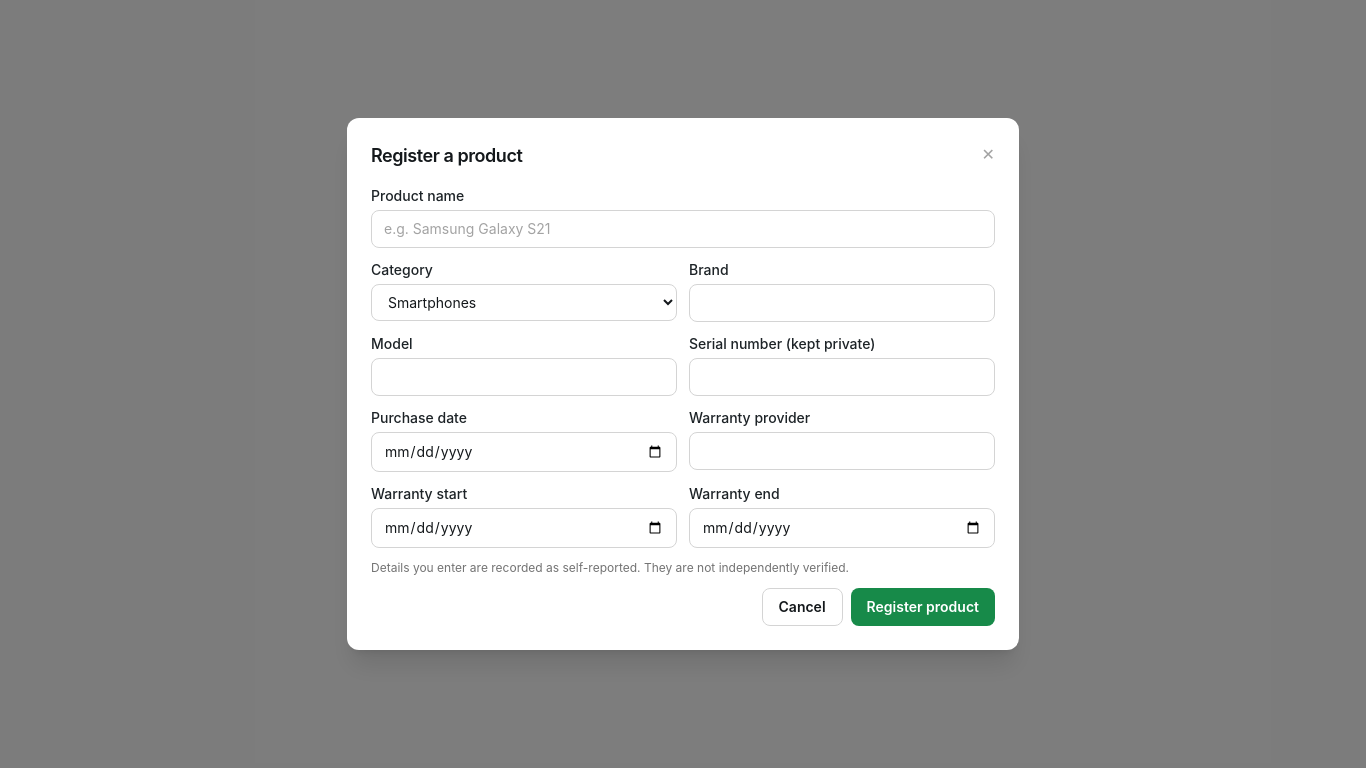
Test case: repair booking flow › product registration rejects a future purchase date and mismatched warranty dates
In the field labelled "Product name": [683, 229] box [371, 210, 995, 248], type "Phone"
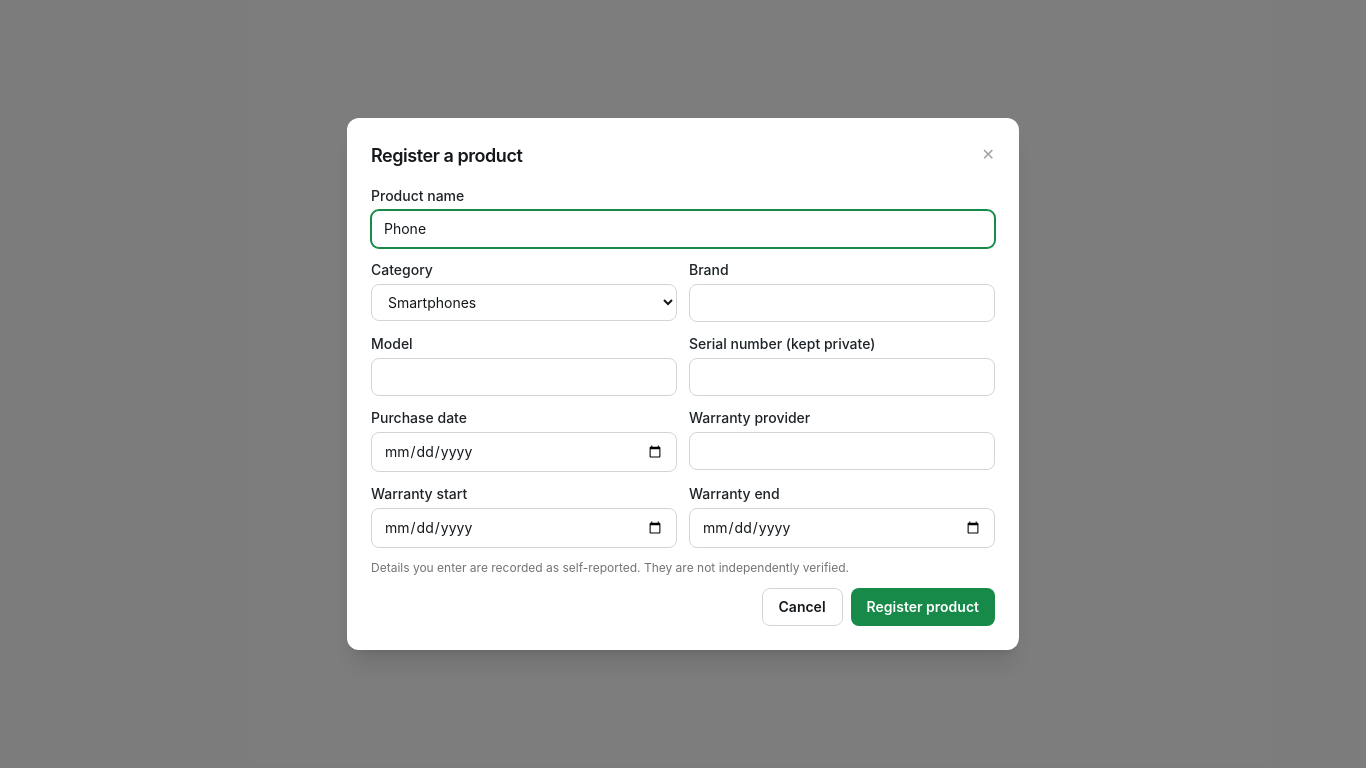
In the date field labelled "Warranty start": [524, 528] box [371, 508, 677, 548], type "2024-01-01"
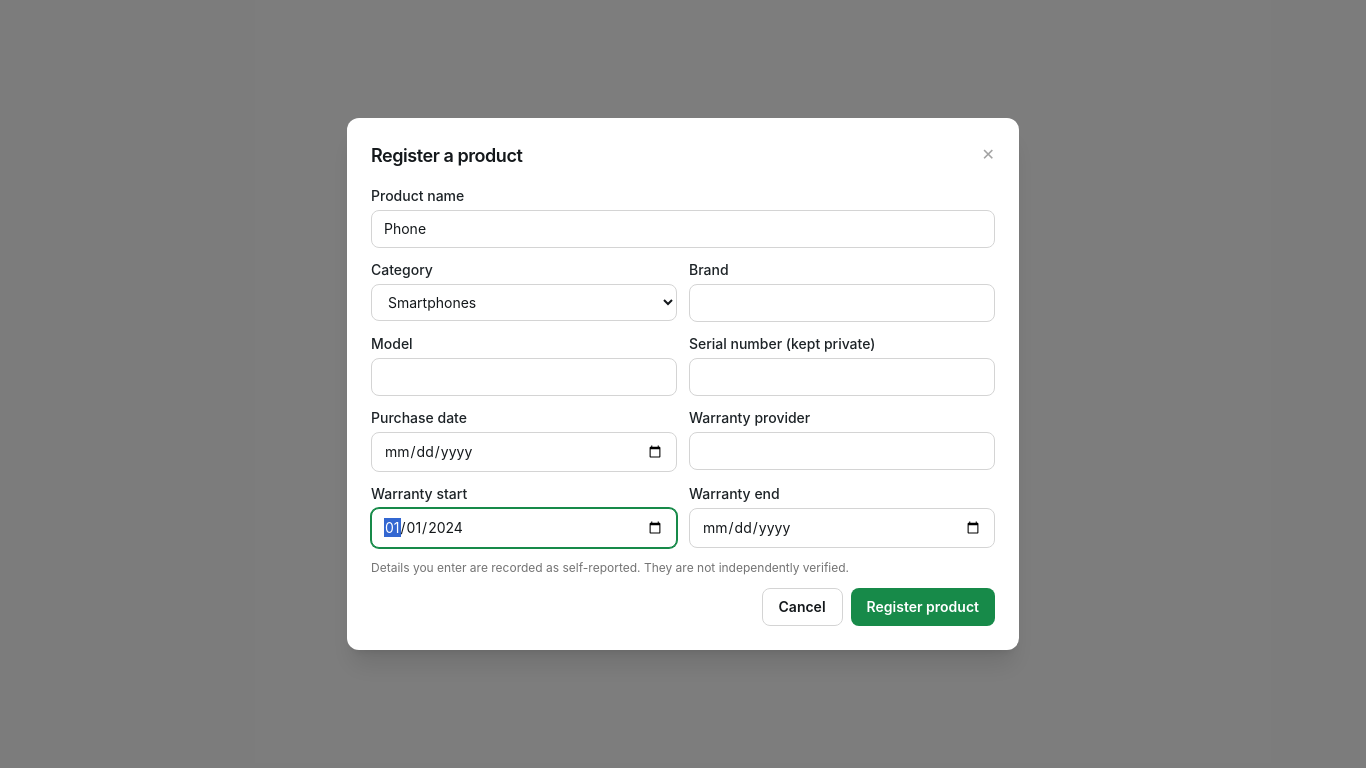
In the date field labelled "Purchase date": [524, 452] box [371, 432, 677, 472], type "2024-01-01"
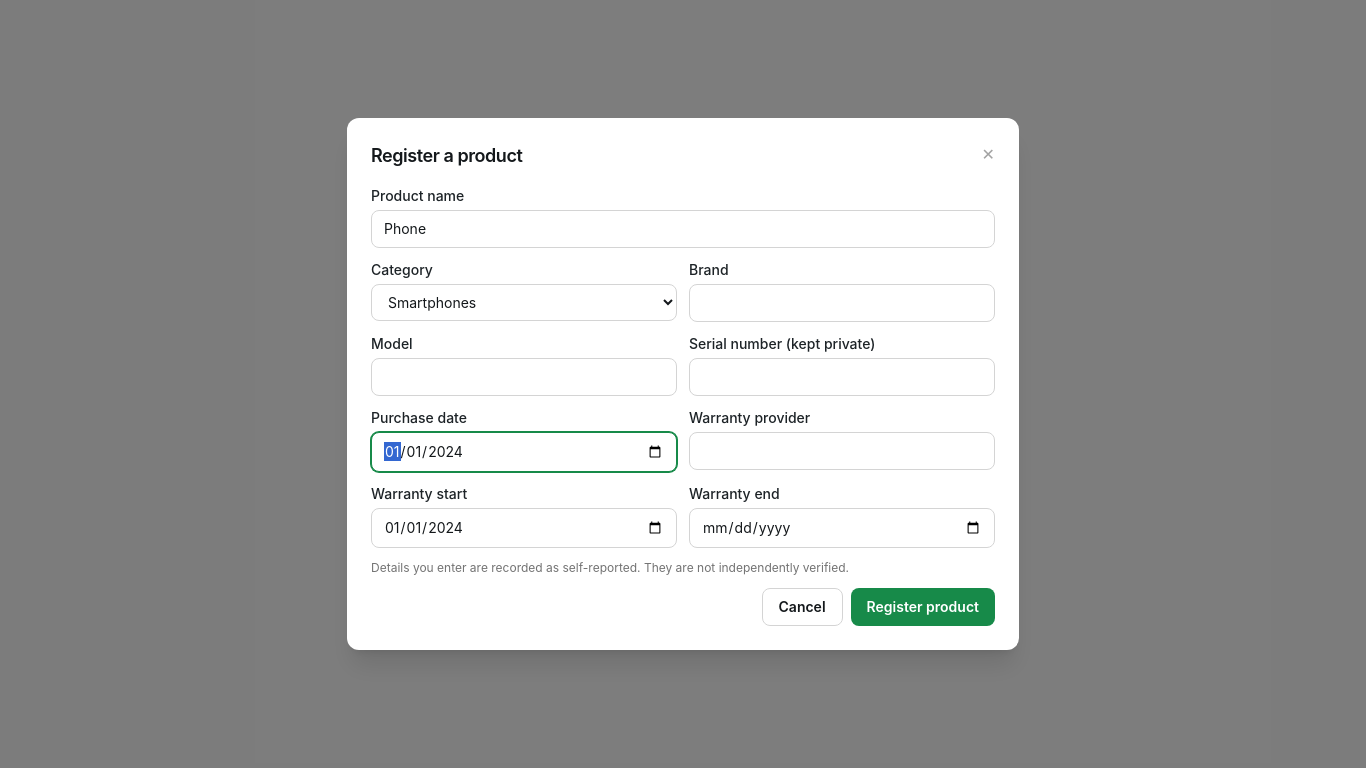
Click the button "Register product": [923, 607] box [851, 588, 995, 626]
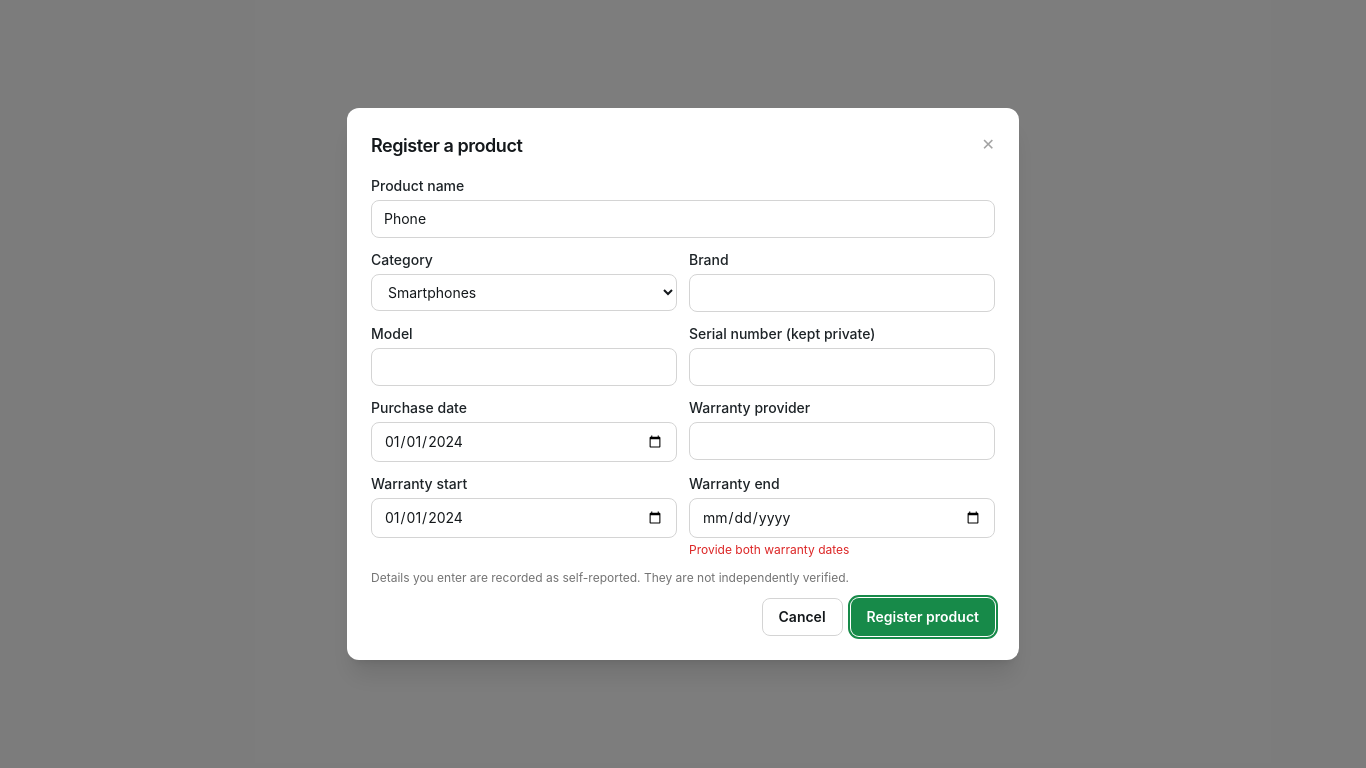
Expected: the text "Provide both warranty dates" is shown, [689, 542, 849, 557]
